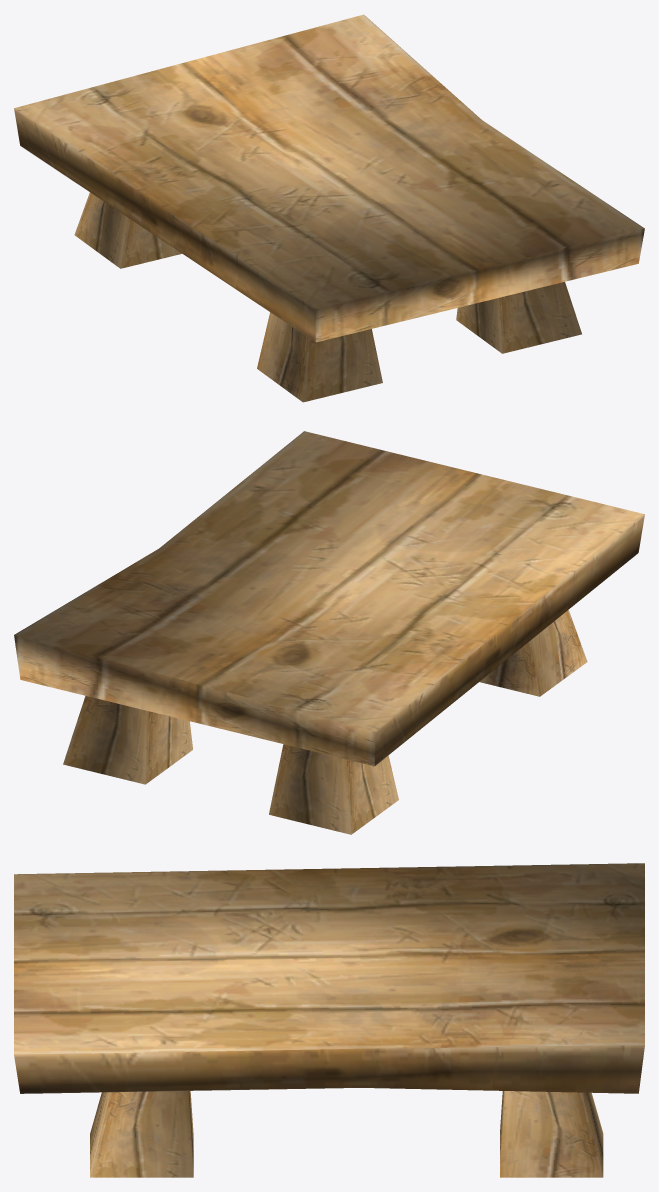
File: inntable.obj
3 renders of one model, top to bottom at view 1: azimuth 30°, elevation 25°; view 2: azimuth 150°, elevation 25°; view 3: azimuth 270°, elevation 25°, orthographic. The views are drawn at different scales.
Parts seen in each view (by area): view 1: INNTABLE0; view 2: INNTABLE0; view 3: INNTABLE0.
Part boxes in pixels (left/top/right/bottom): INNTABLE0: left=14, top=14, right=644, bottom=402; INNTABLE0: left=14, top=431, right=644, bottom=834; INNTABLE0: left=14, top=863, right=644, bottom=1177.
Size of the model in its own units: 2.86 by 1.03 by 3.98.
1 material, 1 textured.
